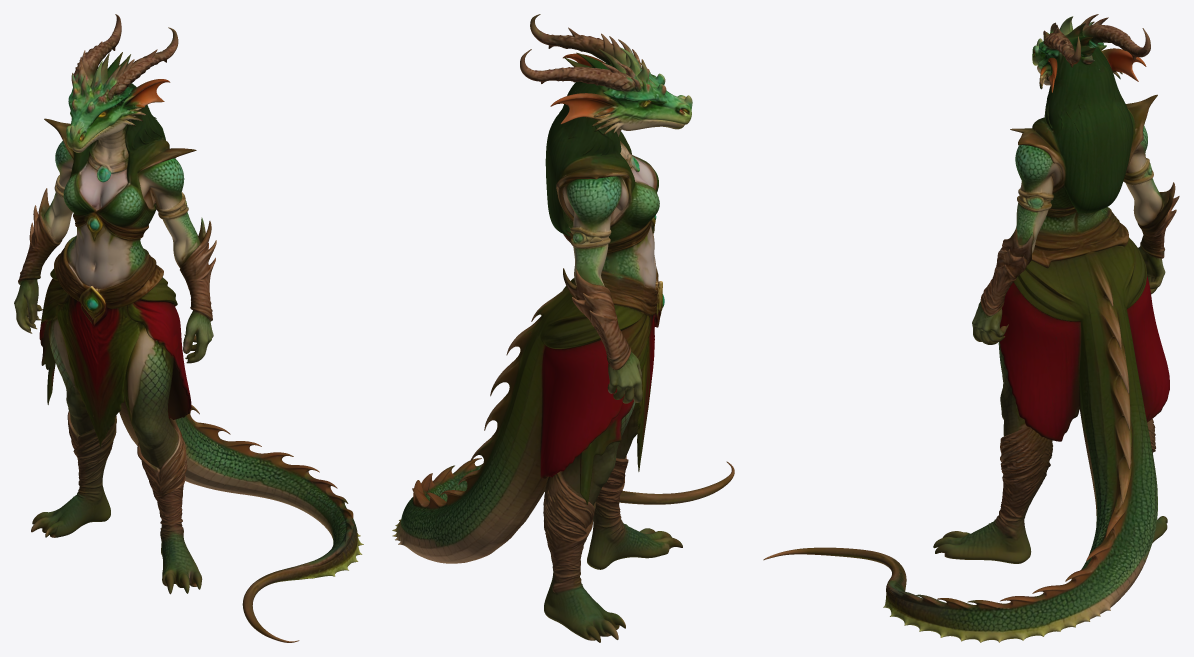
File: dragonborn_druid_full_female_01.glb
3 renders of one model, left to right at view 1: azimuth 30°, elevation 25°; view 2: azimuth 150°, elevation 25°; view 3: azimuth 270°, elevation 25°, orthographic. The views are drawn at different scales.
Parts seen in each view (by area): view 1: material; view 2: material; view 3: material.
Boxes of the visible parts, x1=… form: material: x1=14, y1=14, x2=363, y2=642; material: x1=392, y1=14, x2=734, y2=642; material: x1=763, y1=14, x2=1179, y2=642.
Bounding box in the file's own units: 0.5198 × 0.9448 × 0.6628.
1 material, 1 textured.
